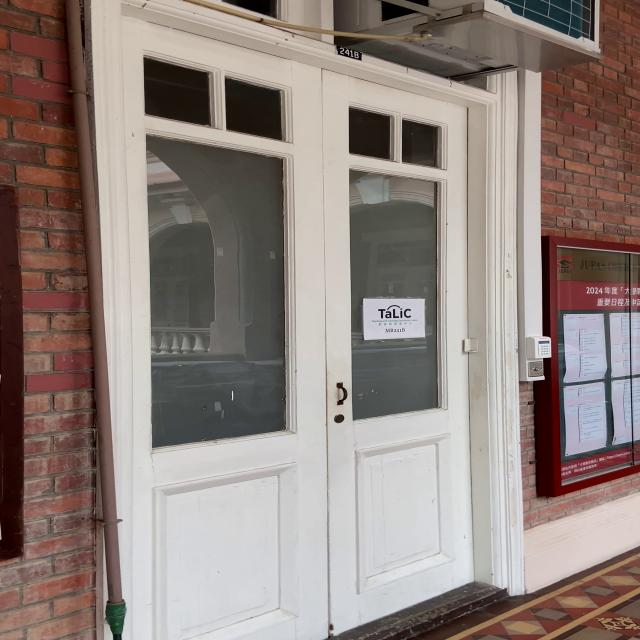room241b: (332, 42, 366, 64)
